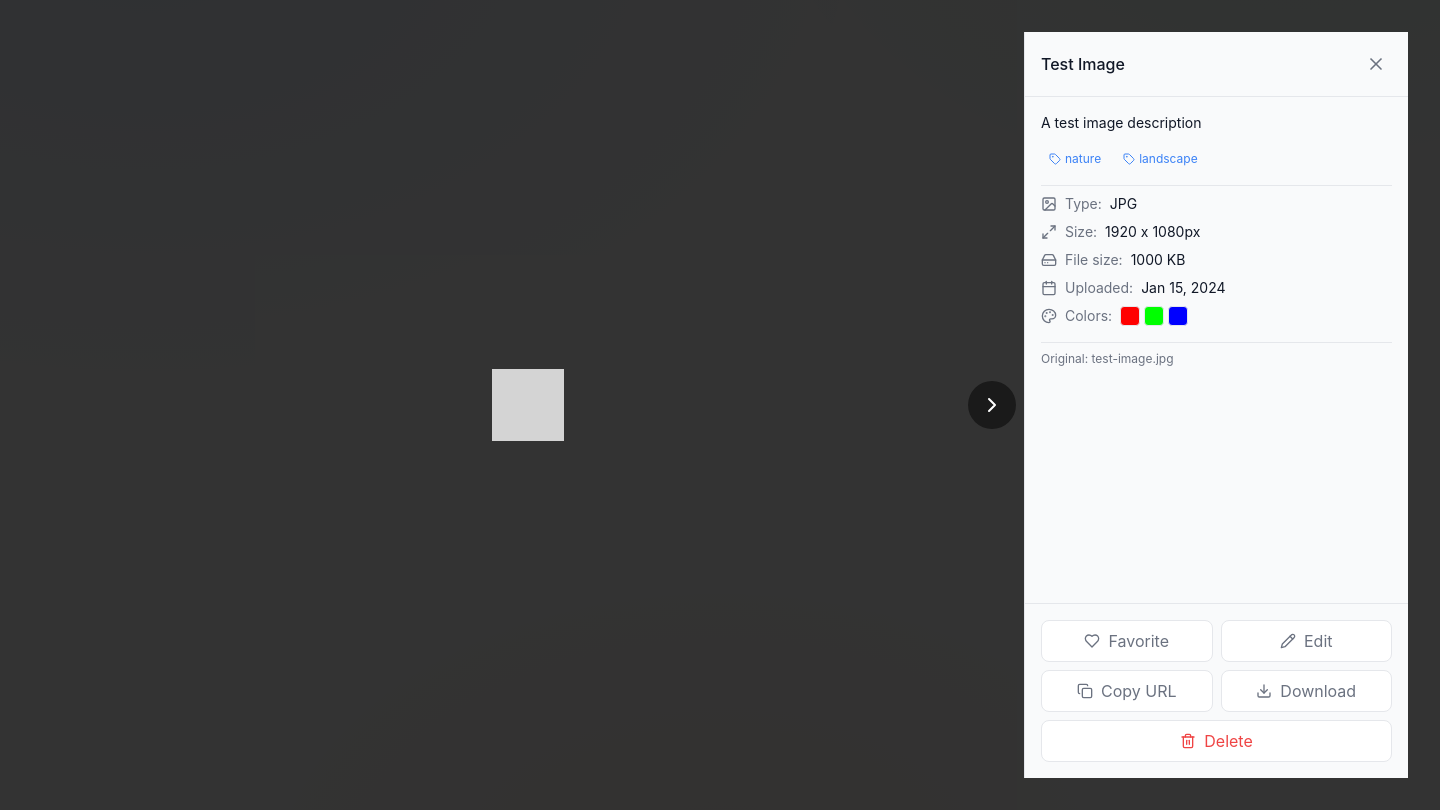
Test case: ImageDetailsModal › Tag Management in Edit Mode › allows adding tags with Enter key
Click the button "Edit".
click(1306, 641)  # box [1220, 620, 1392, 662]
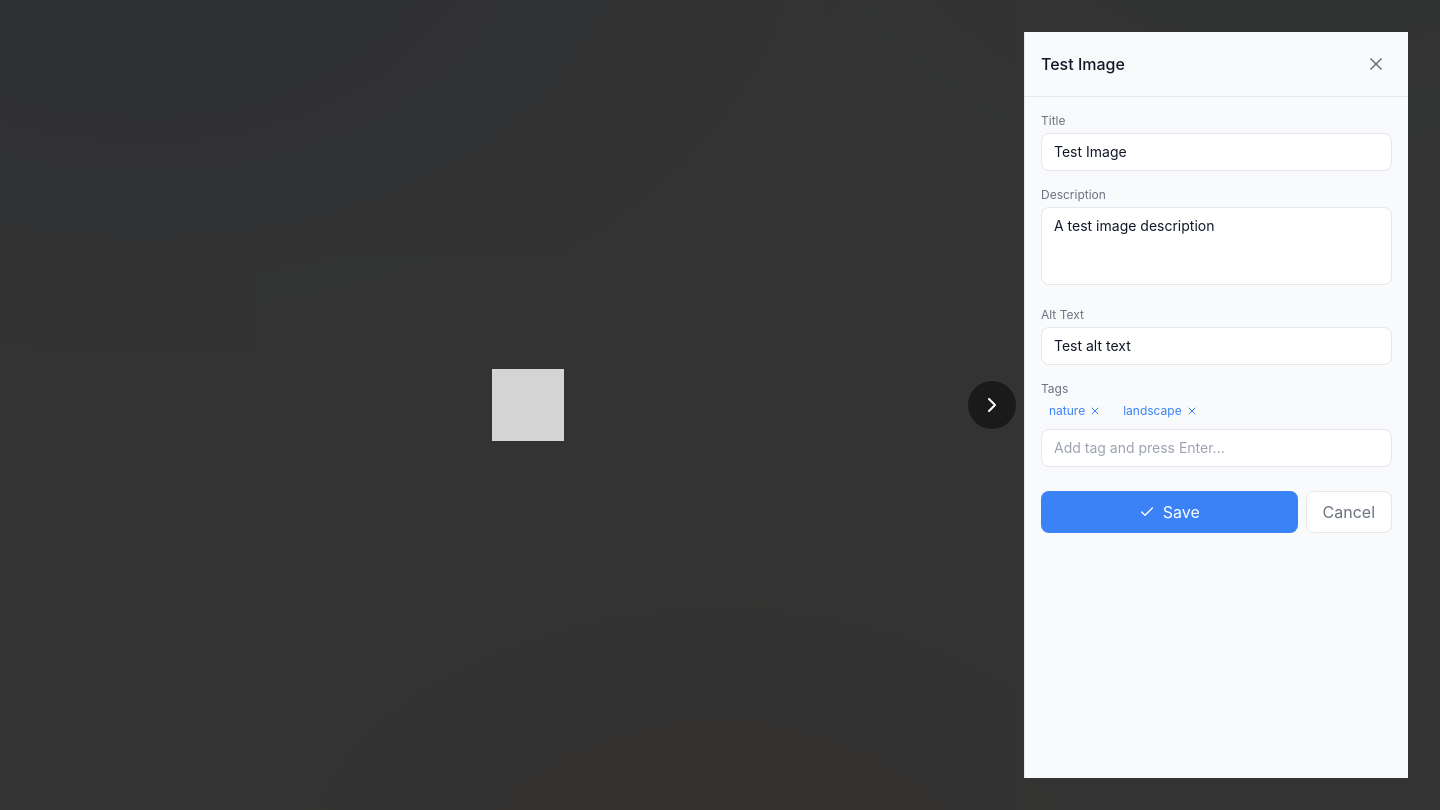
Type "newtag" into the field with placeholder "Add tag and press Enter...".
click(1216, 448); type("newtag")  # box [1041, 429, 1392, 467]
Then press Enter
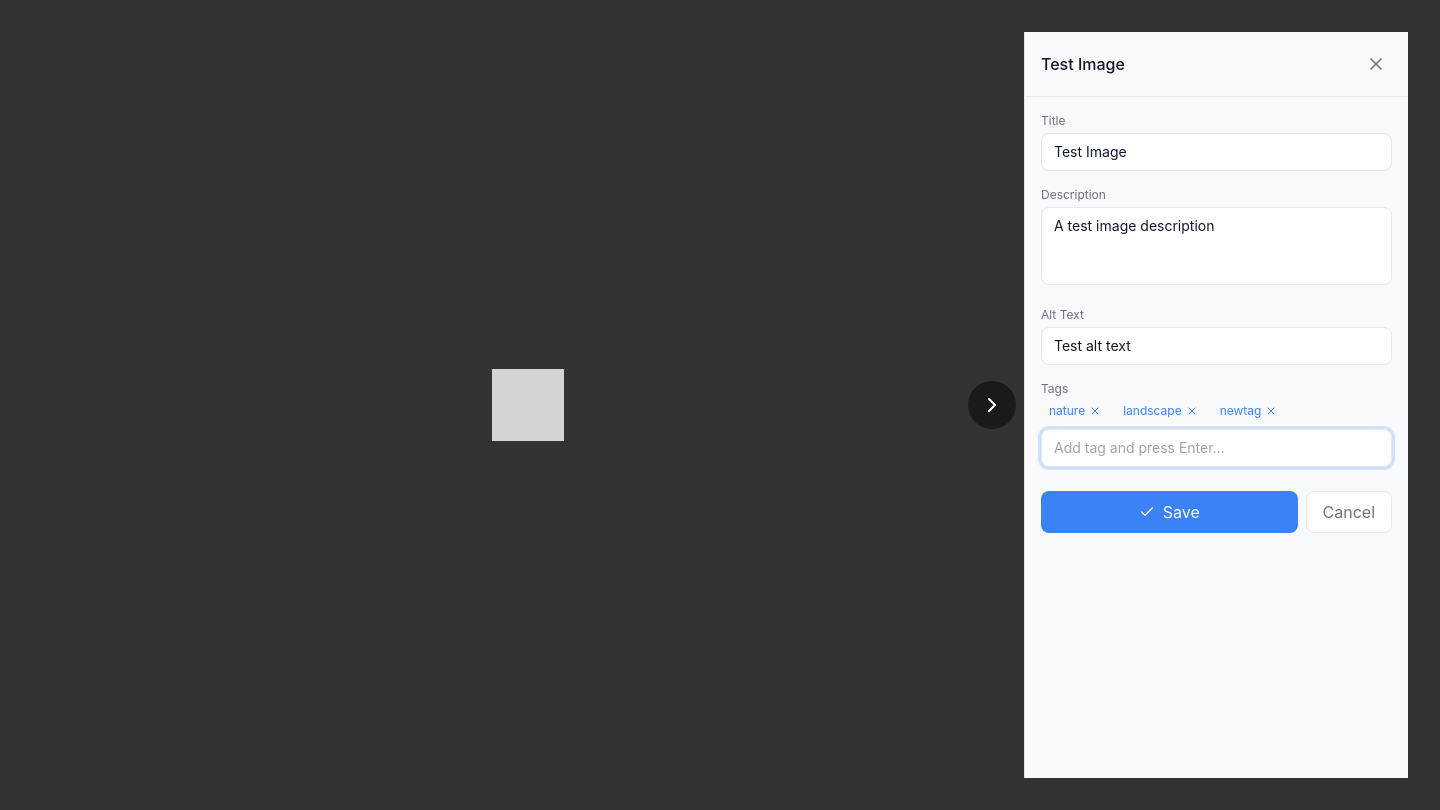
Result: the text "newtag" is shown at [1220, 403, 1278, 418]
